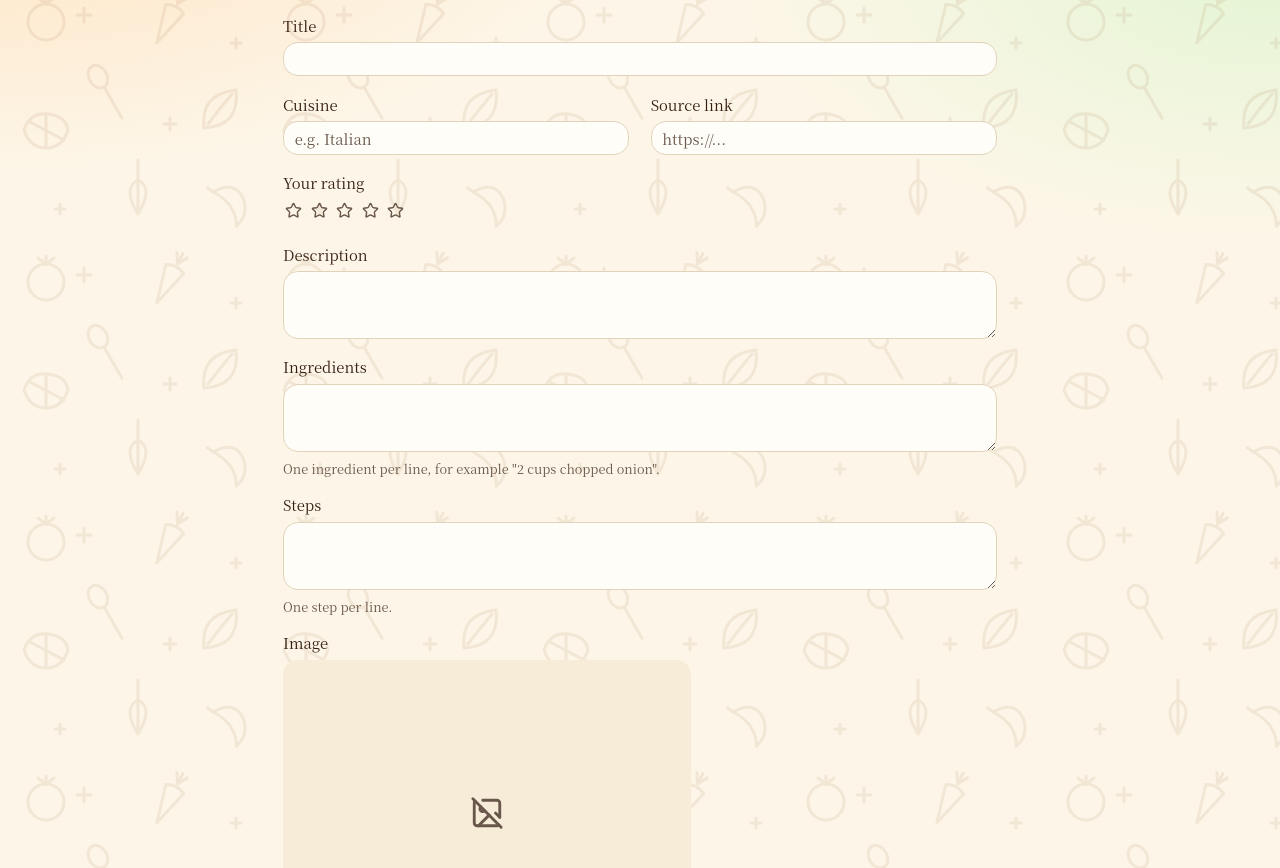
Test: creating a recipe › shows the server message and stays on the form when saving fails
In the field labelled "Title": [640, 59] box [283,42,997,76], type "Pasta"
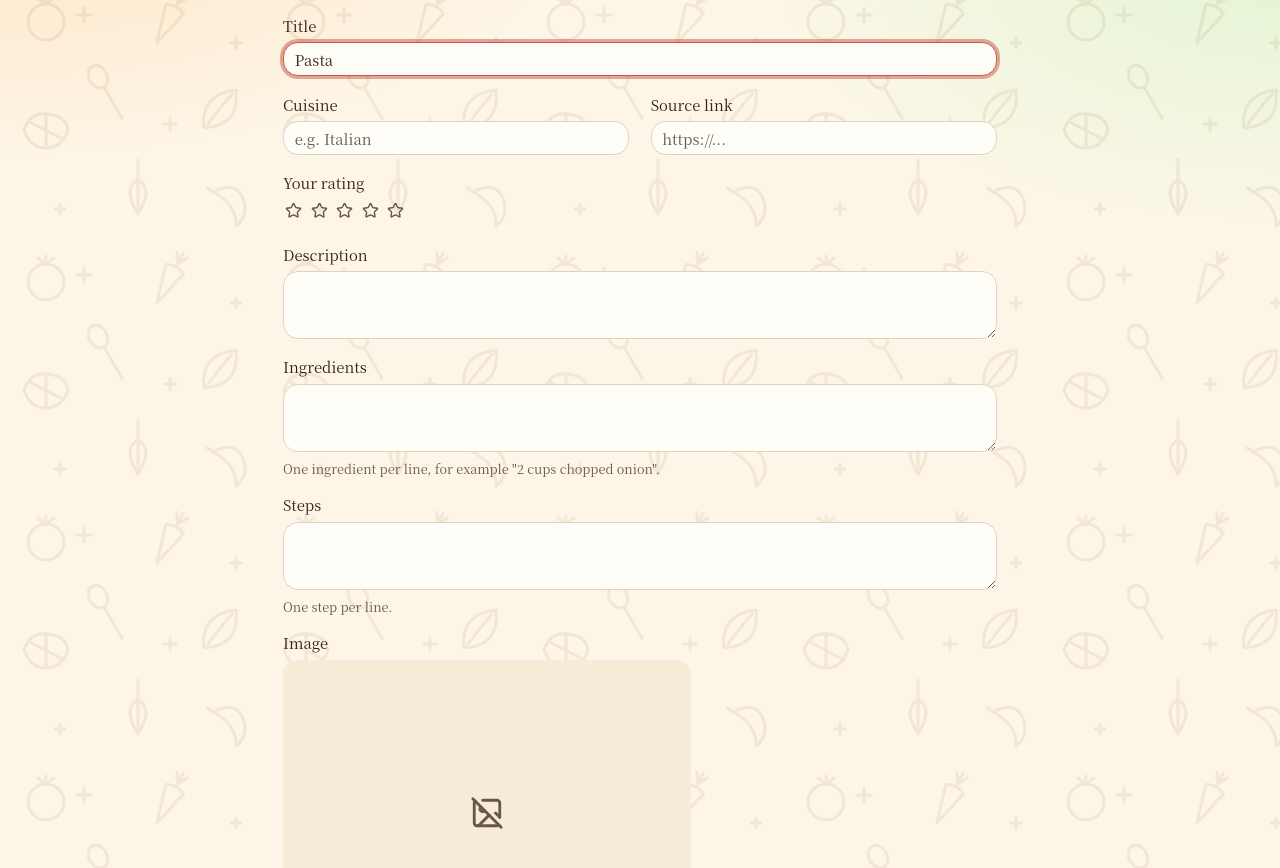
In the field labelled "Source link": [824, 138] box [651,121,997,155], type "banana"
(page scrolled)
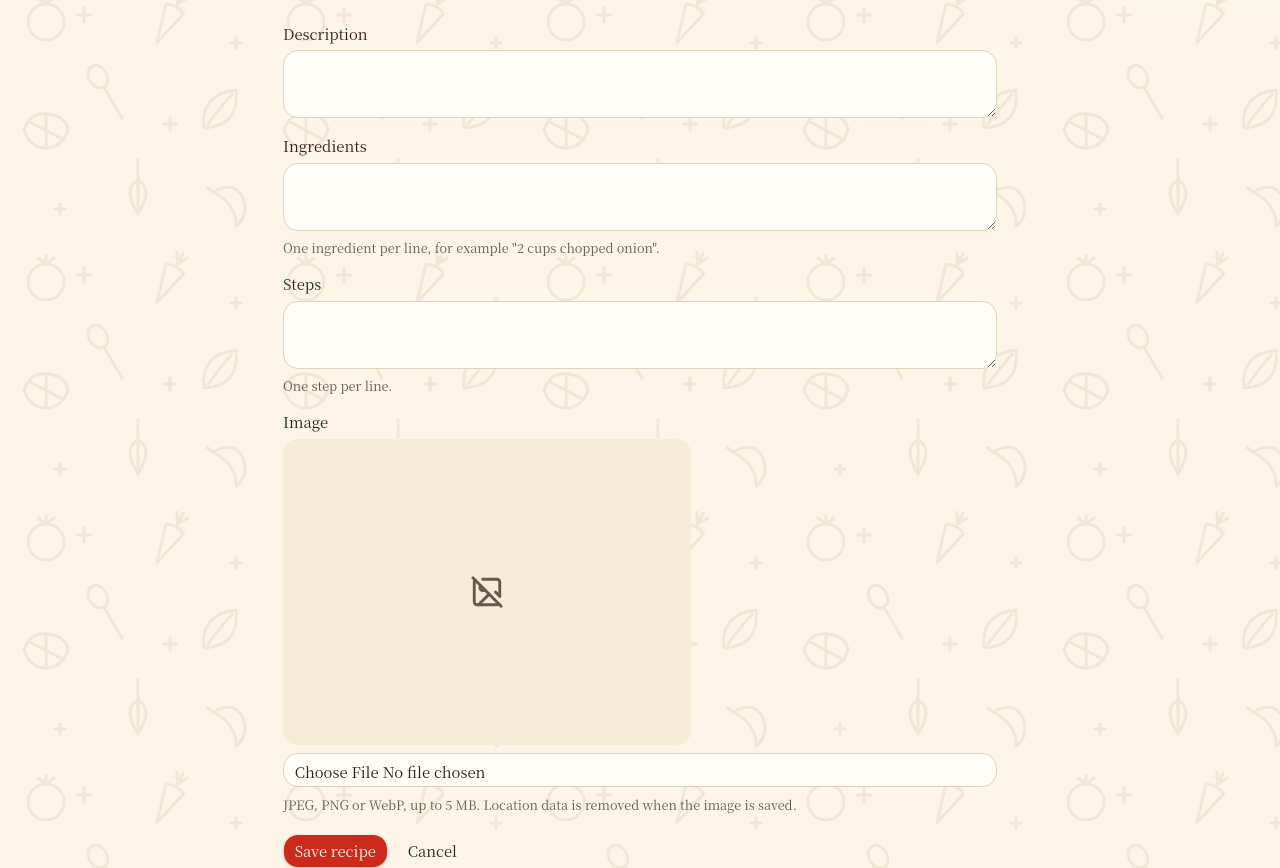
Click the button "Save recipe": [335, 851] box [283,834,388,867]
(page scrolled)
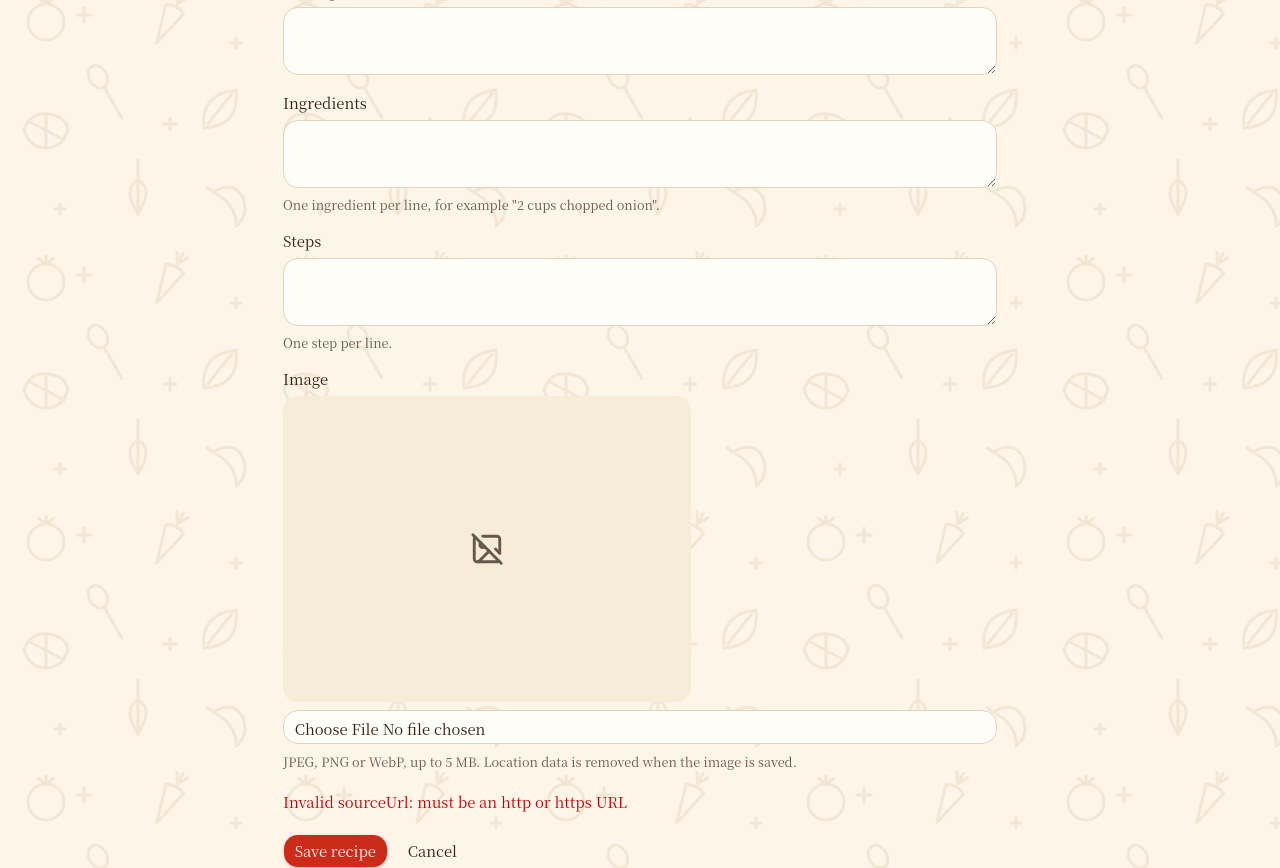
Expected: the message reads "Invalid sourceUrl: must be an http or https URL", [283,791,627,812]
